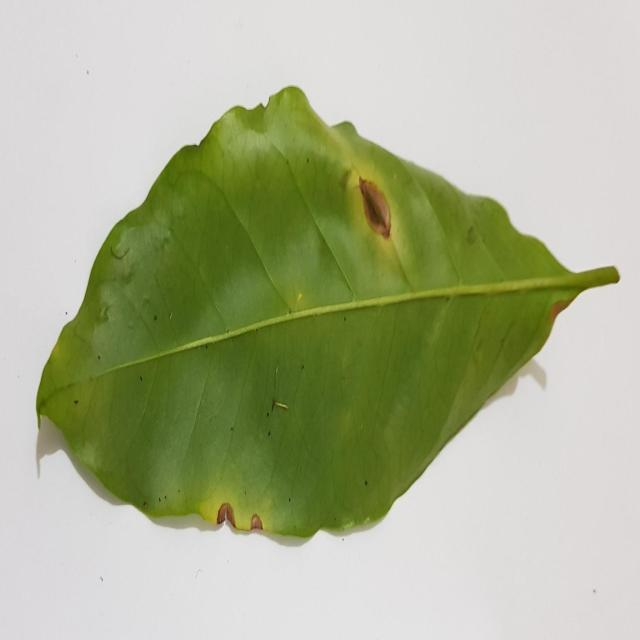Enfermedad-Mancha-de-hierro: (36, 86, 622, 549)
